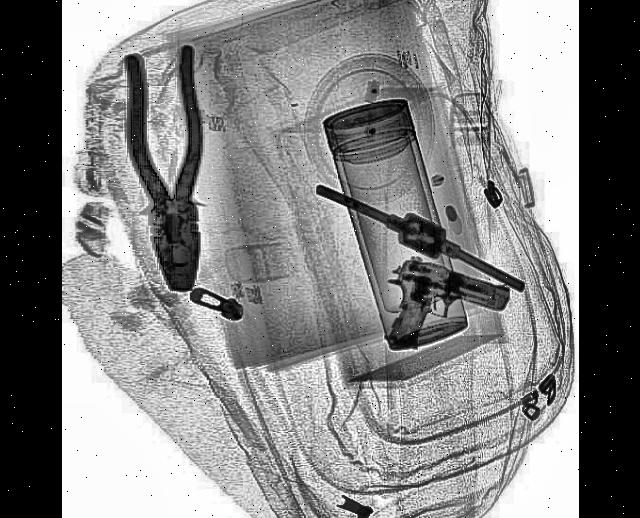Gun: (378, 252, 509, 380)
Pliers: (117, 42, 220, 300)
